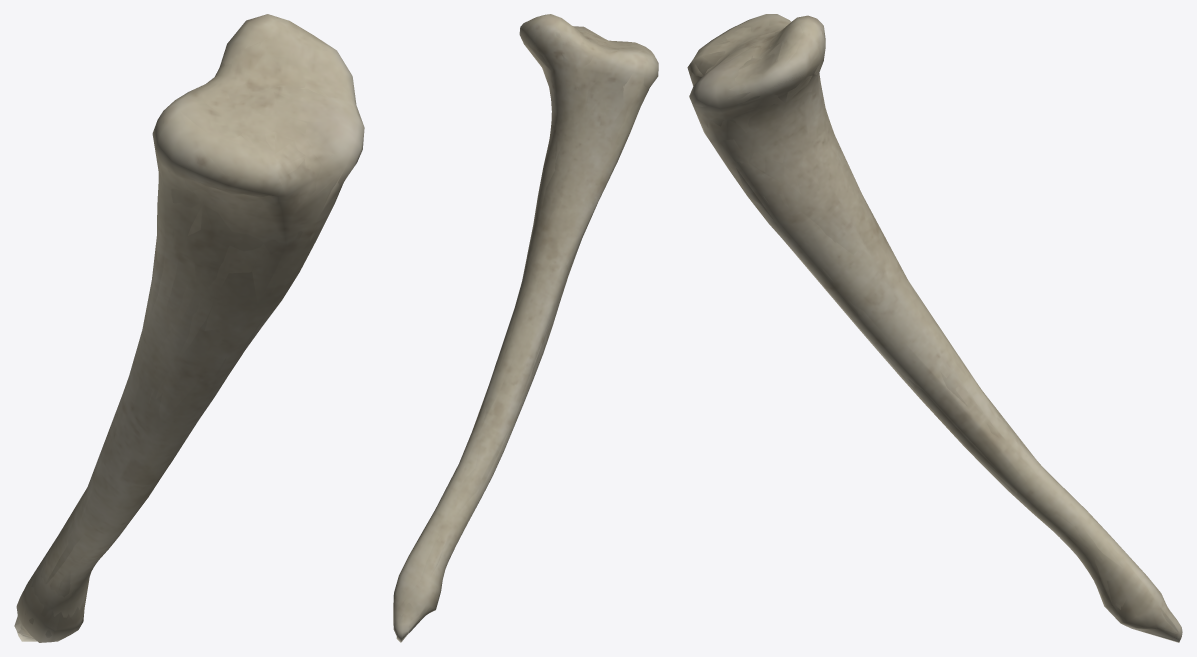
The model's file is R Tibia.fbx.
3 views of the same model, side by side, from view 1: azimuth 30°, elevation 25°; view 2: azimuth 150°, elevation 25°; view 3: azimuth 270°, elevation 25° (orthographic). The views are drawn at different scales.
Parts seen in each view (by area): view 1: R Tibia, R Tibia low, R Tibia high; view 2: R Tibia low, R Tibia, R Tibia high; view 3: R Tibia, R Tibia low, R Tibia high.
Boxes of the visible parts, bbox=[...] form: R Tibia: bbox=[14, 14, 364, 642]; R Tibia low: bbox=[14, 14, 364, 642]; R Tibia high: bbox=[18, 21, 357, 639]; R Tibia low: bbox=[393, 14, 658, 641]; R Tibia: bbox=[393, 14, 658, 642]; R Tibia high: bbox=[396, 30, 649, 633]; R Tibia: bbox=[687, 14, 1182, 641]; R Tibia low: bbox=[687, 14, 1180, 642]; R Tibia high: bbox=[695, 24, 1179, 637].
Bounding box in the file's own units: 2.15 × 8.42 × 6.02.
1 material, 1 textured.
